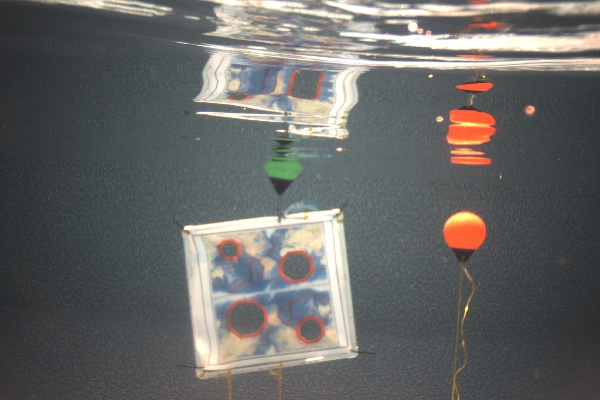buoy: (444, 212, 487, 262)
torpille: (184, 209, 357, 379)
torpille_target: (226, 299, 268, 338), (280, 250, 312, 284), (296, 316, 324, 344), (218, 238, 242, 262)
